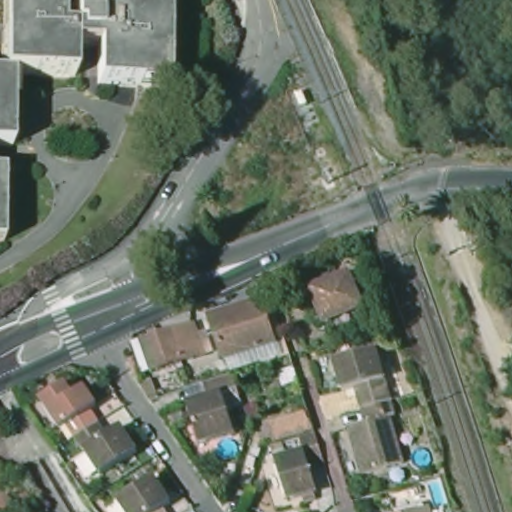pool: (427, 478, 448, 508), (214, 439, 242, 460), (414, 445, 434, 471)
